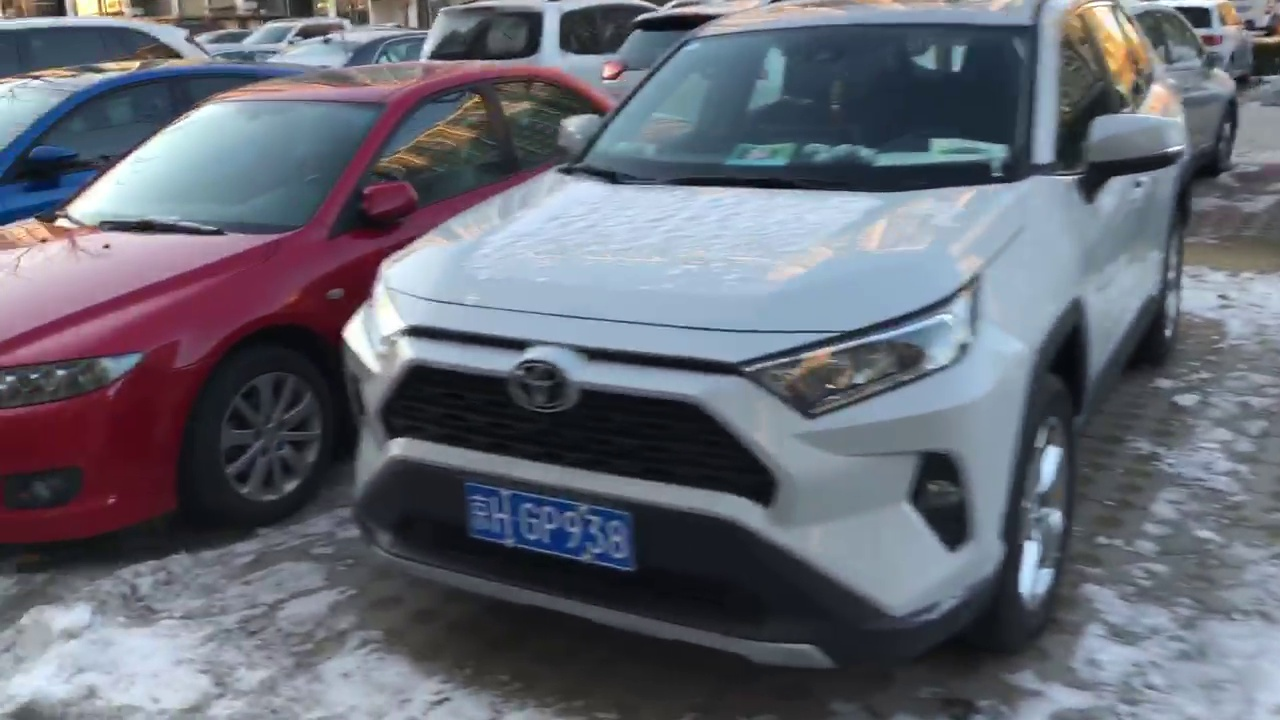plate: (465, 493, 635, 568)
